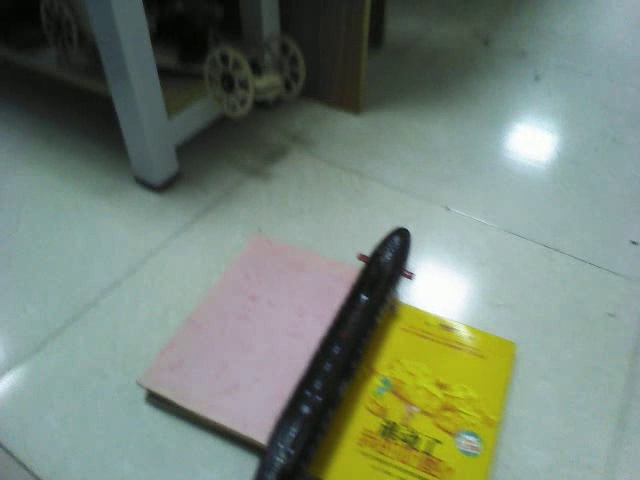submarine: (242, 226, 413, 478)
